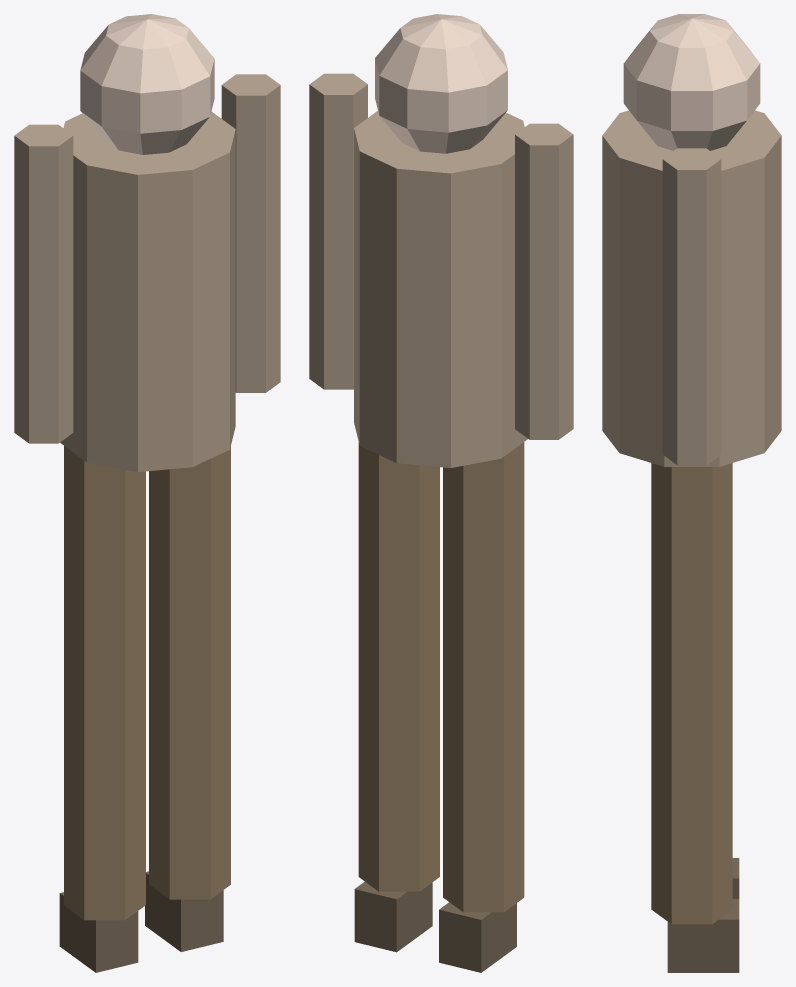
The model's file is employee.glb.
3 renders of one model, left to right at view 1: azimuth 30°, elevation 25°; view 2: azimuth 150°, elevation 25°; view 3: azimuth 270°, elevation 25°, orthographic.
Parts seen in each view (by area): view 1: Employee; view 2: Employee; view 3: Employee.
Boxes of the visible parts, bbox=[...] form: Employee: bbox=[14, 14, 280, 972]; Employee: bbox=[309, 14, 573, 972]; Employee: bbox=[602, 14, 781, 972].
Bounding box in the file's own units: 0.1772 × 0.6252 × 0.11.
